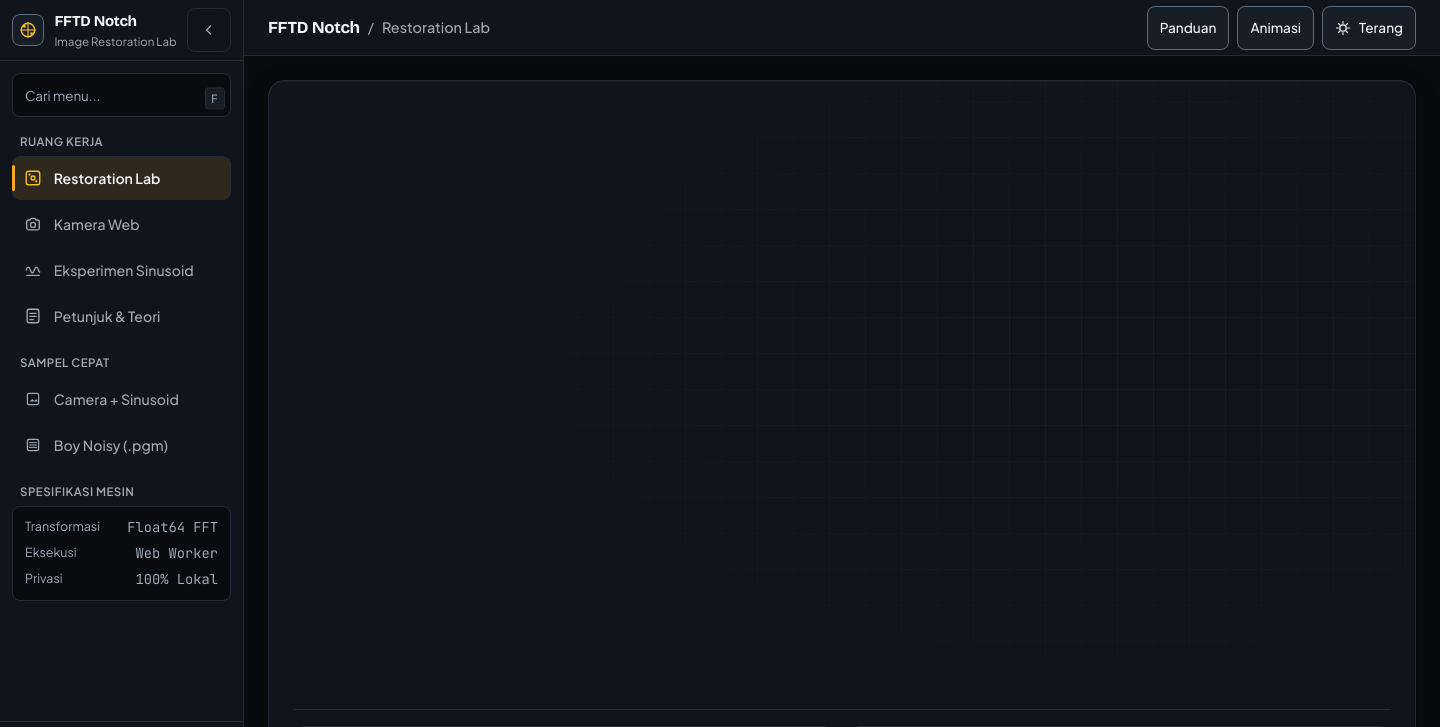
Test case: App navigation and theme controls › preserves tab component state when switching away and returning (P0 tab persistence)
This screenshot has width=1440, height=727.
Later steps or results of the test are not shown.
Click the tab "Eksperimen Sinusoid" at (122, 270), box [12, 248, 231, 292]
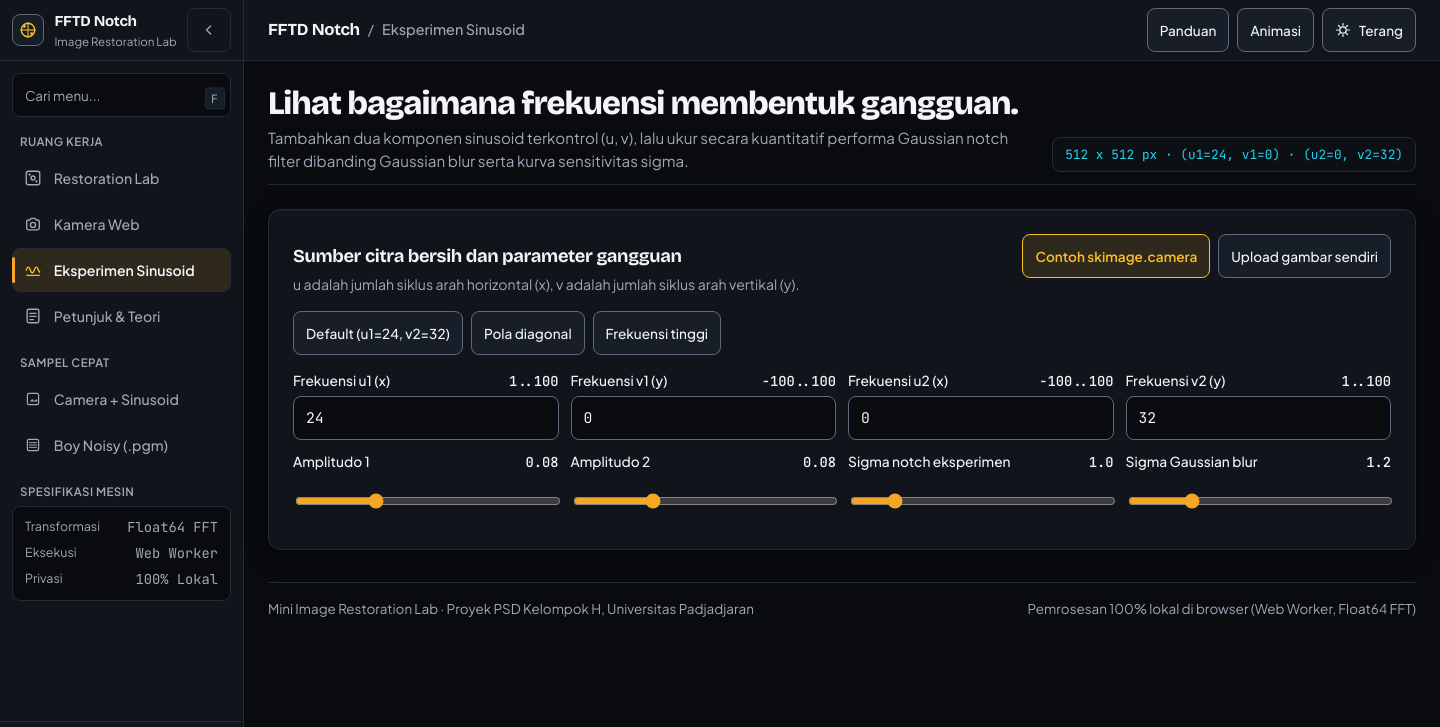
Replace the text in the field labelled "Frekuensi u1 (x) 1..100" with "42" at (426, 418), box [293, 396, 558, 440]
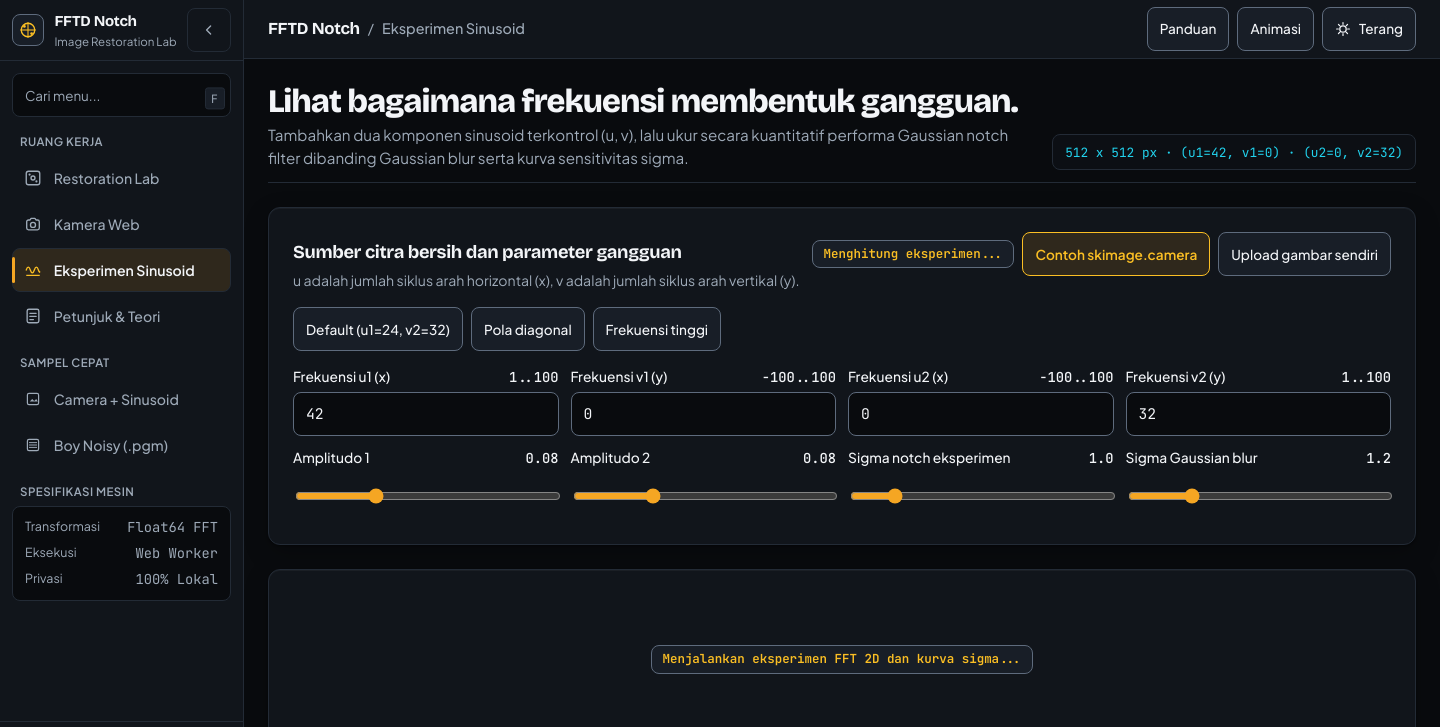
Note: Switch to Guide and back to Experiment — value must persist without remounting.
Click the tab "Petunjuk & Teori" at (122, 316), box [12, 294, 231, 338]
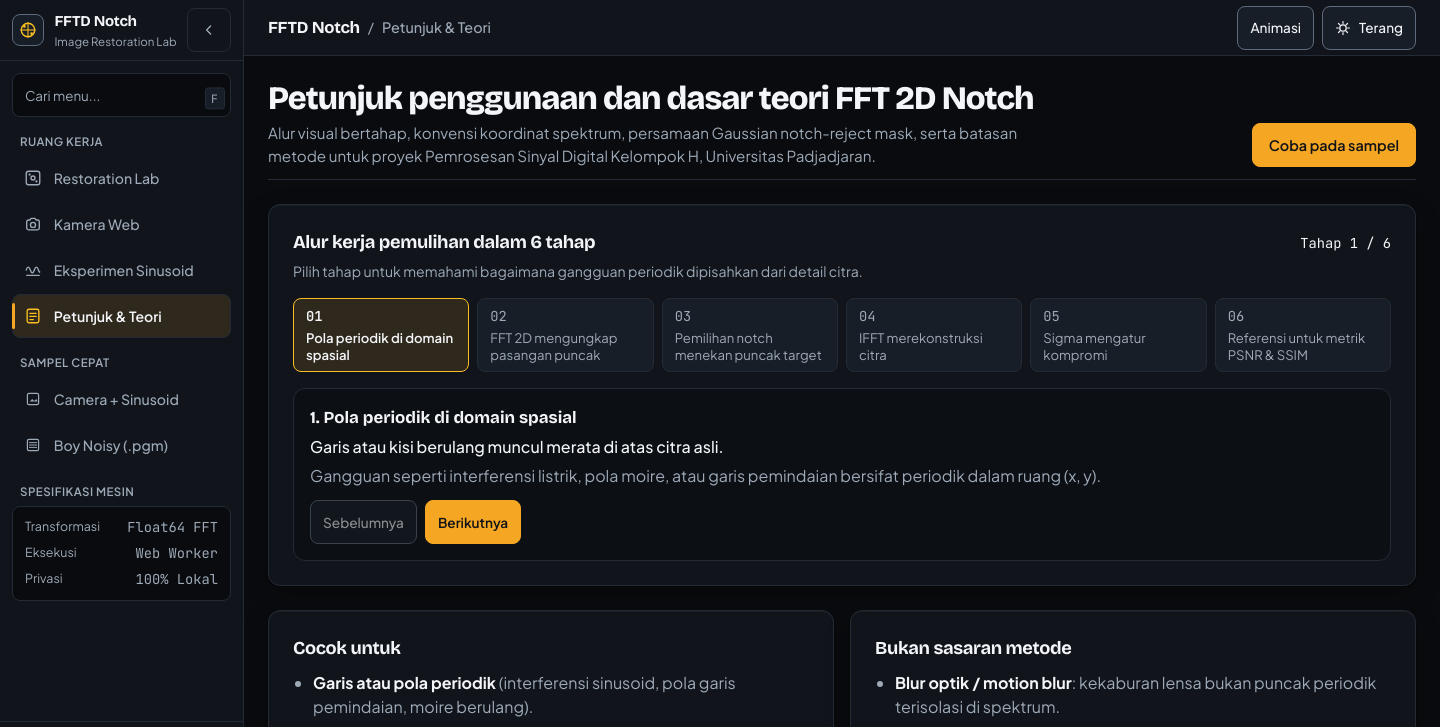
Check: the heading "Petunjuk penggunaan dan dasar teori FFT 2D Notch" is shown, box [268, 80, 1033, 118]
